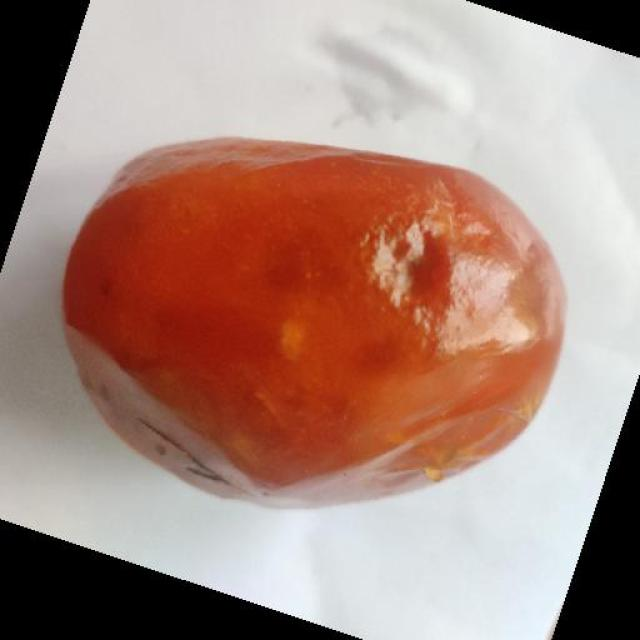Stale_tomato: (61, 121, 555, 493)
